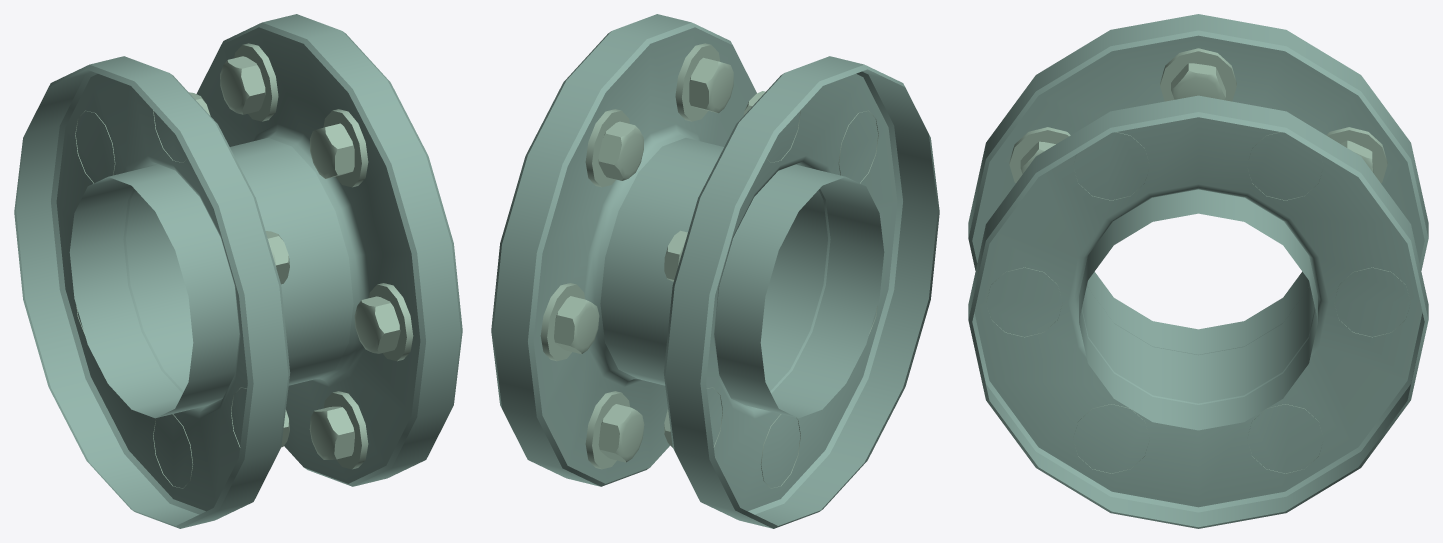
File: PipeComplexLarge_A3_Short_1_Alt.fbx
The picture shows the model from 3 angles, left to right: view 1: azimuth 30°, elevation 25°; view 2: azimuth 150°, elevation 25°; view 3: azimuth 270°, elevation 25°; orthographic projection. The views are drawn at different scales.
Visible parts, largest first — view 1: PipeComplexLarge_A3_Short_1_Alt.001; view 2: PipeComplexLarge_A3_Short_1_Alt.001; view 3: PipeComplexLarge_A3_Short_1_Alt.001.
Part boxes in pixels (x1,y1,x2,y2): PipeComplexLarge_A3_Short_1_Alt.001: [14, 14, 462, 528]; PipeComplexLarge_A3_Short_1_Alt.001: [491, 14, 939, 528]; PipeComplexLarge_A3_Short_1_Alt.001: [968, 14, 1428, 528].
Bounding box in the file's own units: 0.2009 × 0.3846 × 0.3846.
